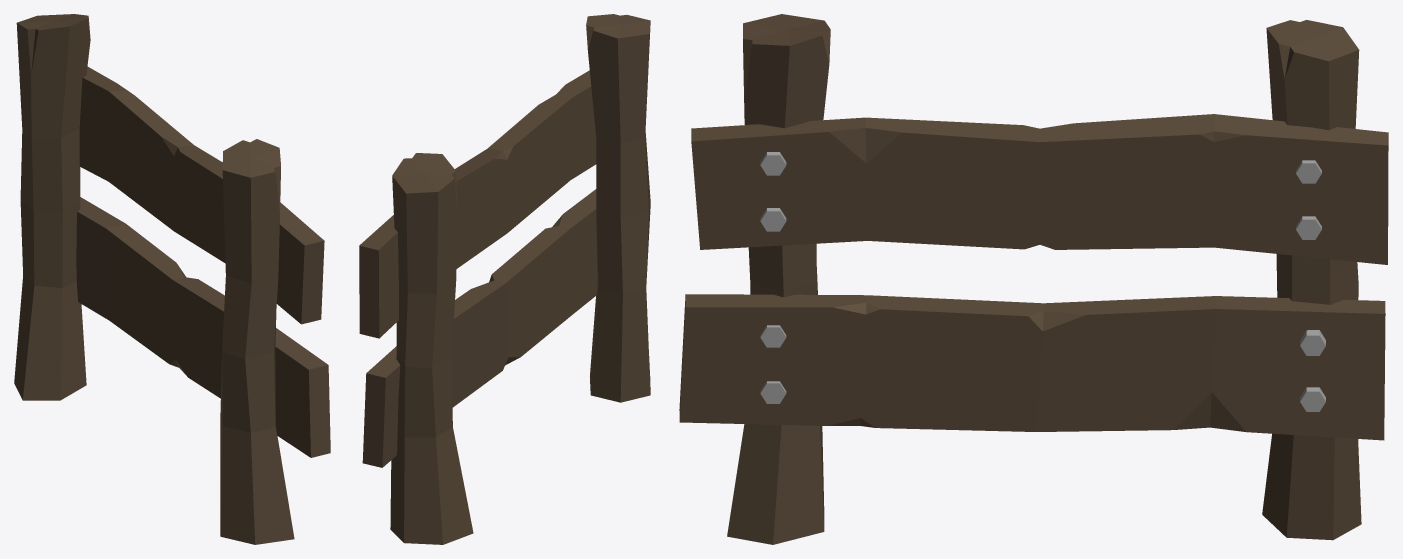
File: M_fence.fbx
The picture shows the model from 3 angles, left to right: view 1: azimuth 30°, elevation 25°; view 2: azimuth 150°, elevation 25°; view 3: azimuth 270°, elevation 25°; orthographic projection. The views are drawn at different scales.
Visible parts, largest first — view 1: fence2; view 2: fence2; view 3: fence2.
Boxes of the visible parts, x1,y1,x2,y2 form: fence2: [14, 14, 330, 544]; fence2: [359, 14, 650, 544]; fence2: [679, 14, 1388, 544].
Bounding box in the file's own units: 9.87 × 42.45 × 54.57.
